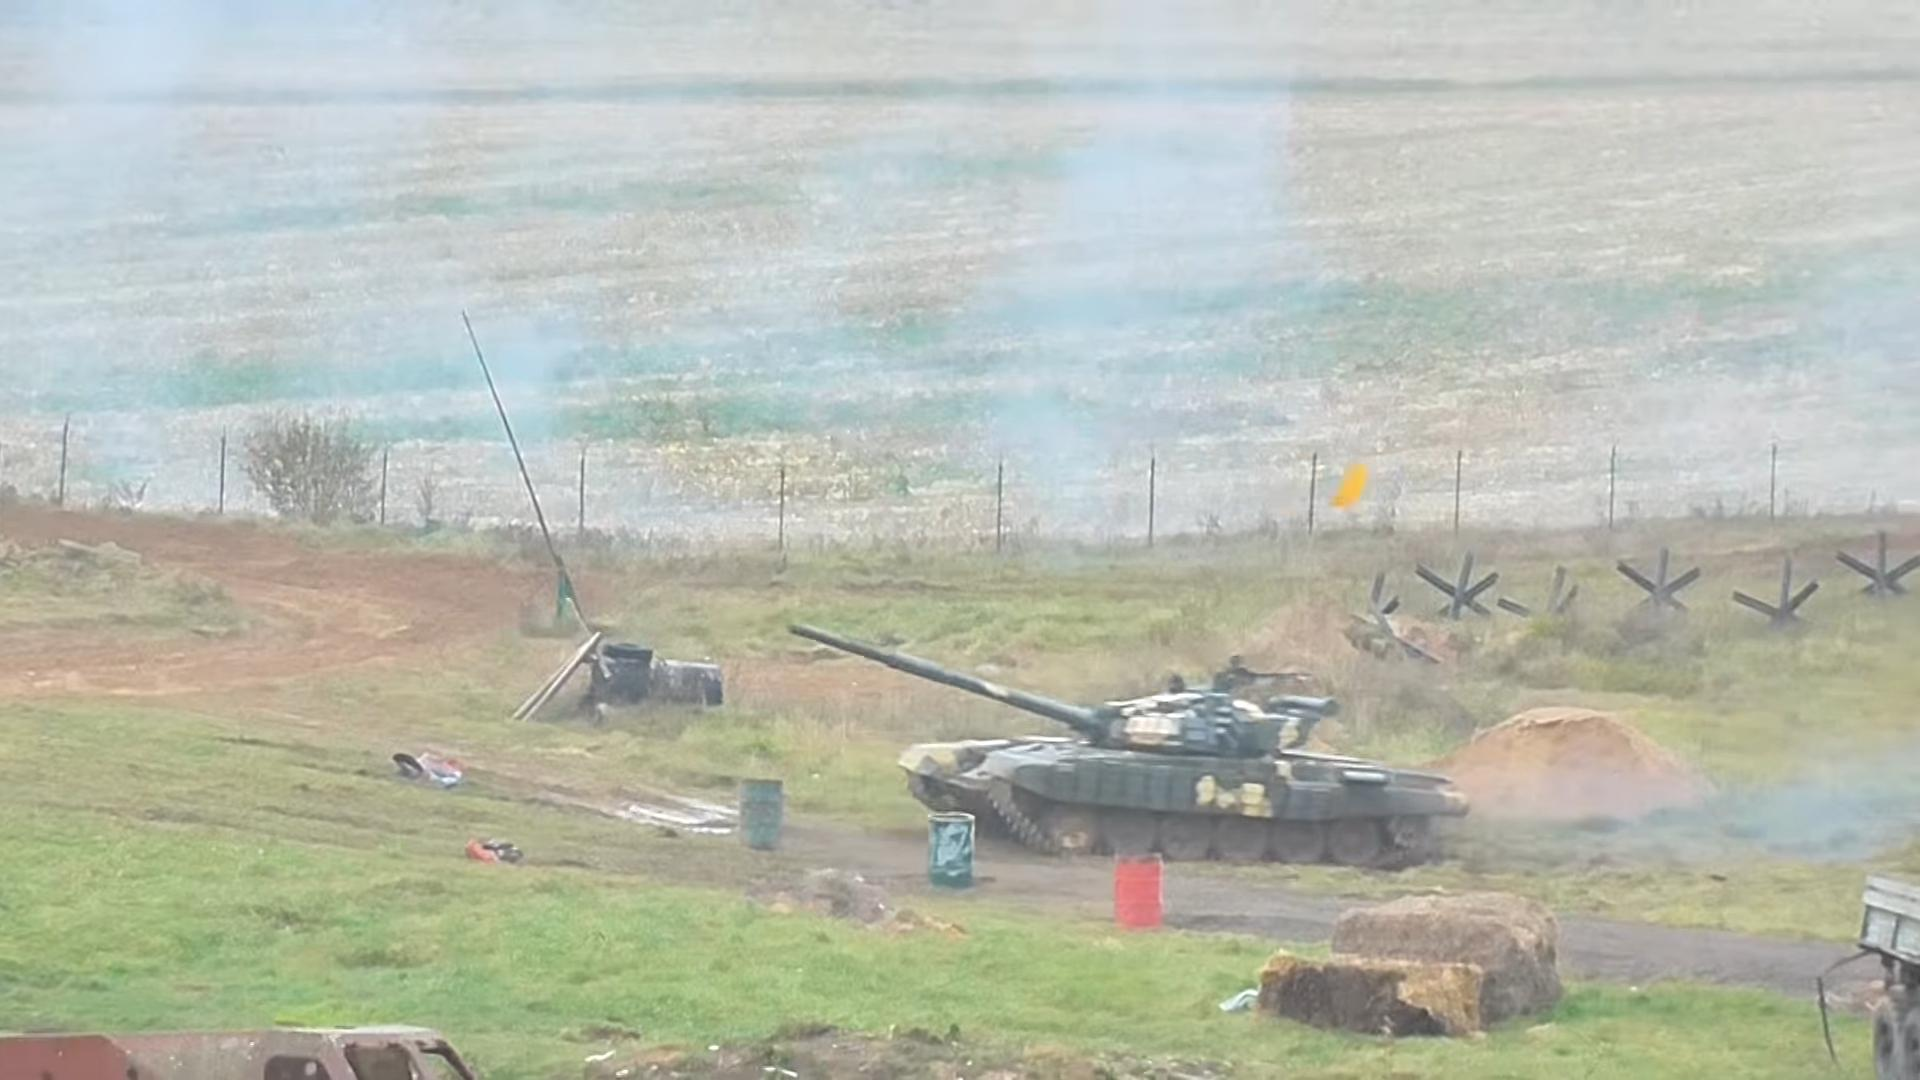tank: (788, 620, 1469, 865)
